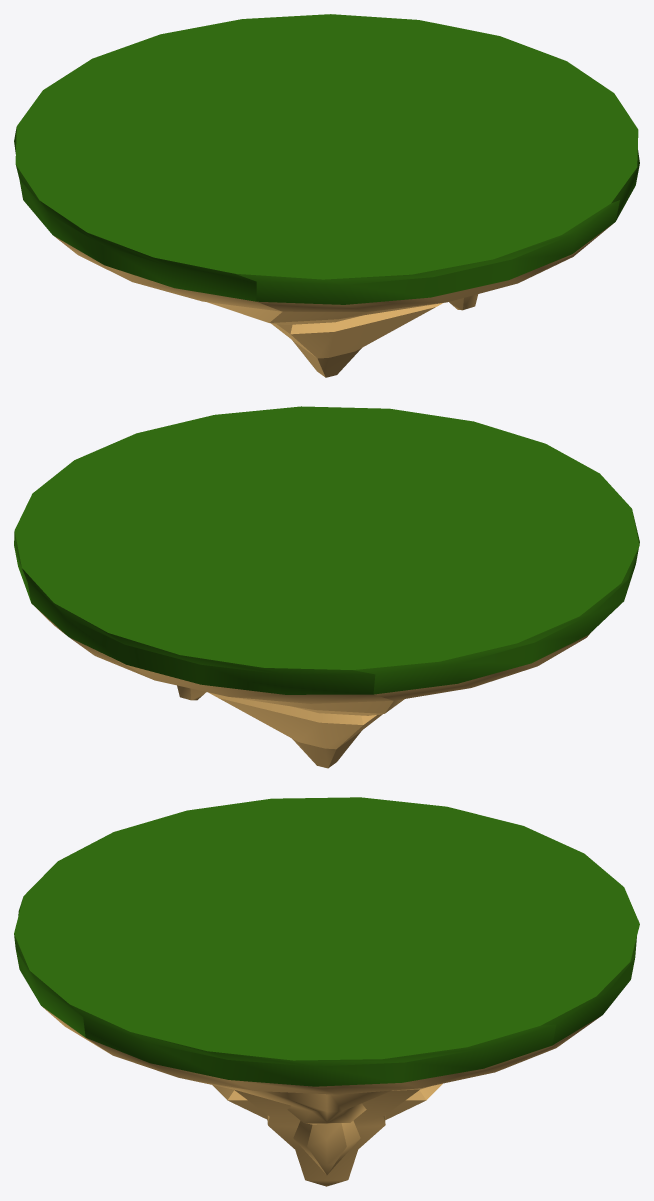
File: OLDIsland.fbx
3 views of the same model, one above another, from view 1: azimuth 30°, elevation 25°; view 2: azimuth 150°, elevation 25°; view 3: azimuth 270°, elevation 25° (orthographic).
Parts seen in each view (by area): view 1: ObjBaseIland; view 2: ObjBaseIland; view 3: ObjBaseIland.
Boxes of the visible parts, box(x1,y1,x2,y2) form: ObjBaseIland: box(14, 14, 639, 377); ObjBaseIland: box(14, 406, 639, 768); ObjBaseIland: box(14, 797, 639, 1186).
Size of the model in its own units: 151 by 59.89 by 151.
